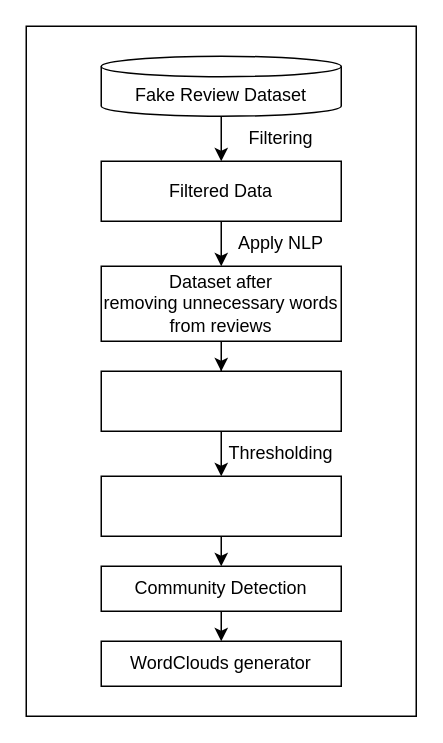
The diagram is 443 pixels wide and 743 high, and some of its shapes have lost their labels. Each missing label, with the box of its shape:
Find common words between every two reviews: (100, 370, 341, 431)
Network generation with comparison parameters: (100, 475, 341, 536)
